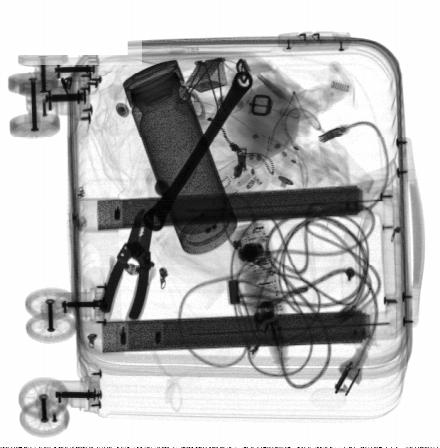Pliers: (94, 208, 156, 328)
Wrench: (143, 71, 253, 231)
